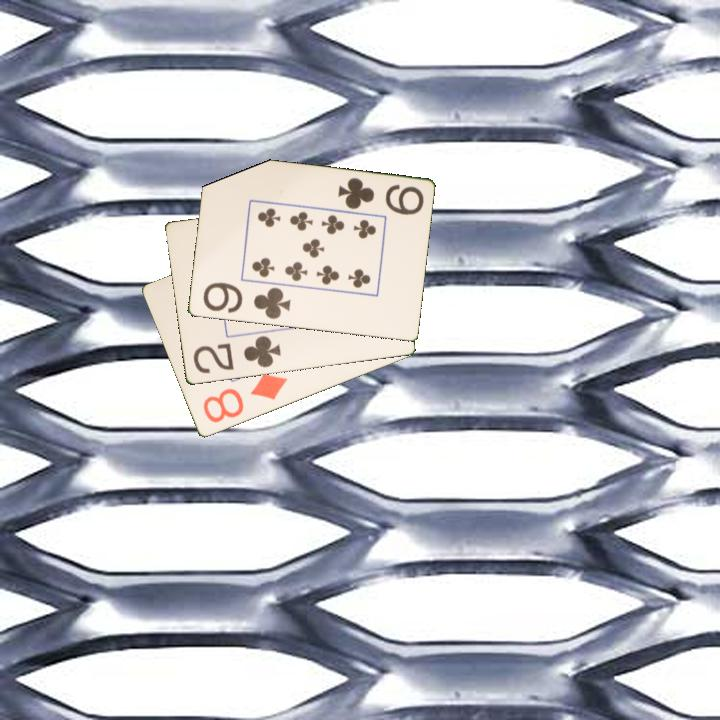2c: (189, 333, 283, 377)
8d: (199, 370, 290, 426)
9c: (199, 279, 294, 322), (334, 174, 426, 218)
